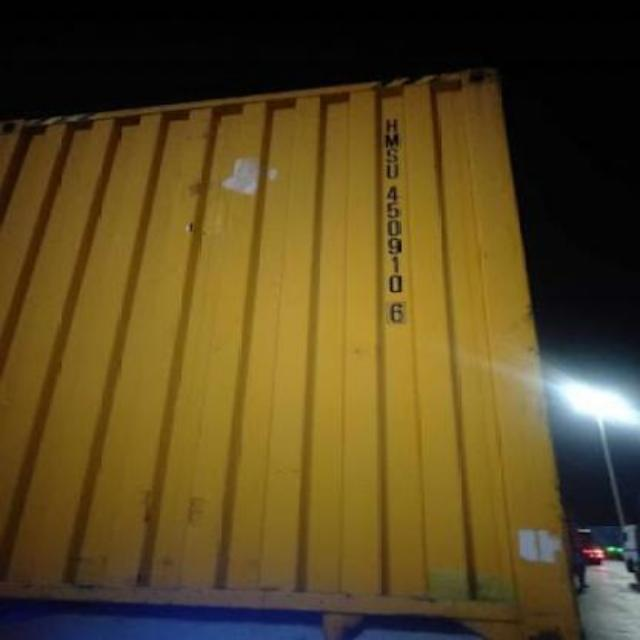0: (376, 275, 414, 293), (382, 216, 404, 237)
1: (378, 252, 412, 272)
4: (384, 182, 400, 200)
5: (378, 198, 410, 218)
6: (378, 298, 414, 330)
9: (376, 232, 406, 255)
H: (381, 111, 402, 132)
M: (376, 130, 406, 148)
S: (382, 146, 404, 162)
U: (382, 163, 406, 179)
